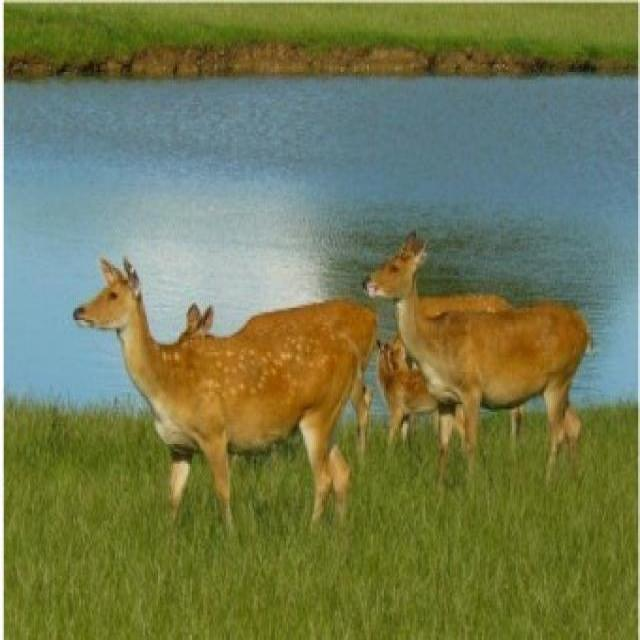deer: (50, 257, 378, 551), (363, 211, 606, 481), (380, 342, 433, 445)
